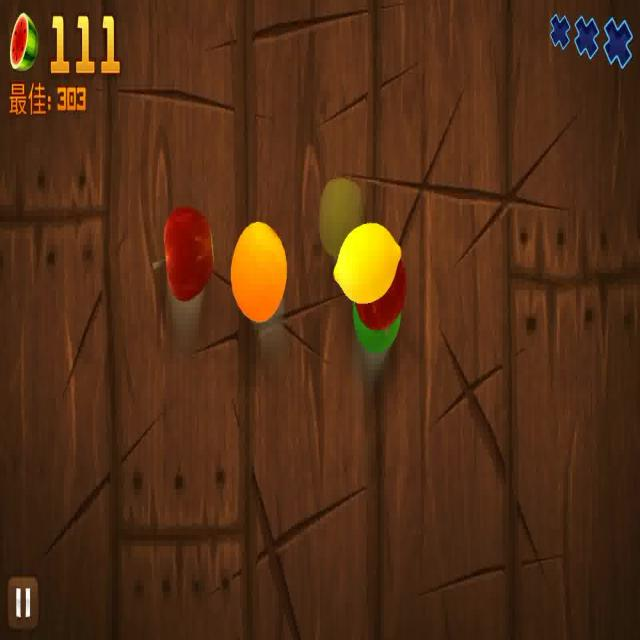fruit: (332, 221, 404, 301), (230, 224, 286, 321), (160, 212, 214, 300), (322, 177, 366, 258), (357, 284, 407, 328), (354, 312, 403, 355)
